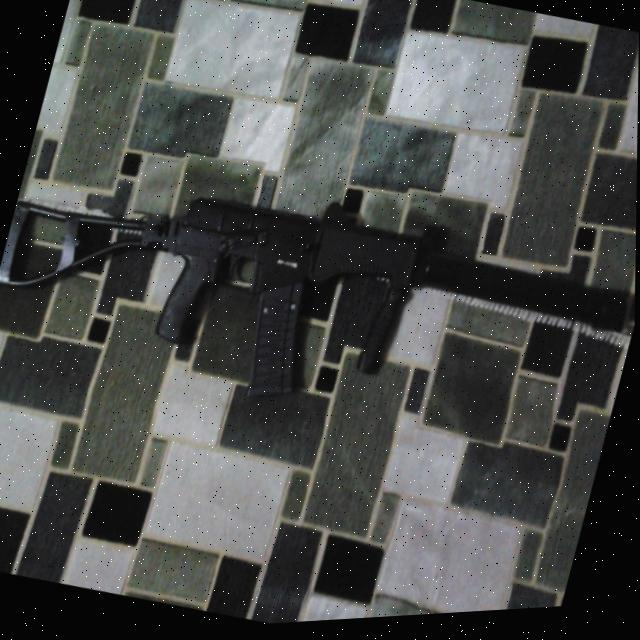firearm: (0, 99, 638, 493)
